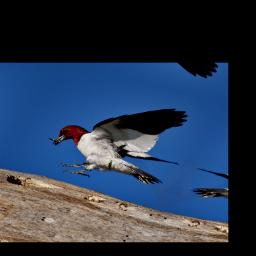Woodpecker: (35, 86, 209, 195)
